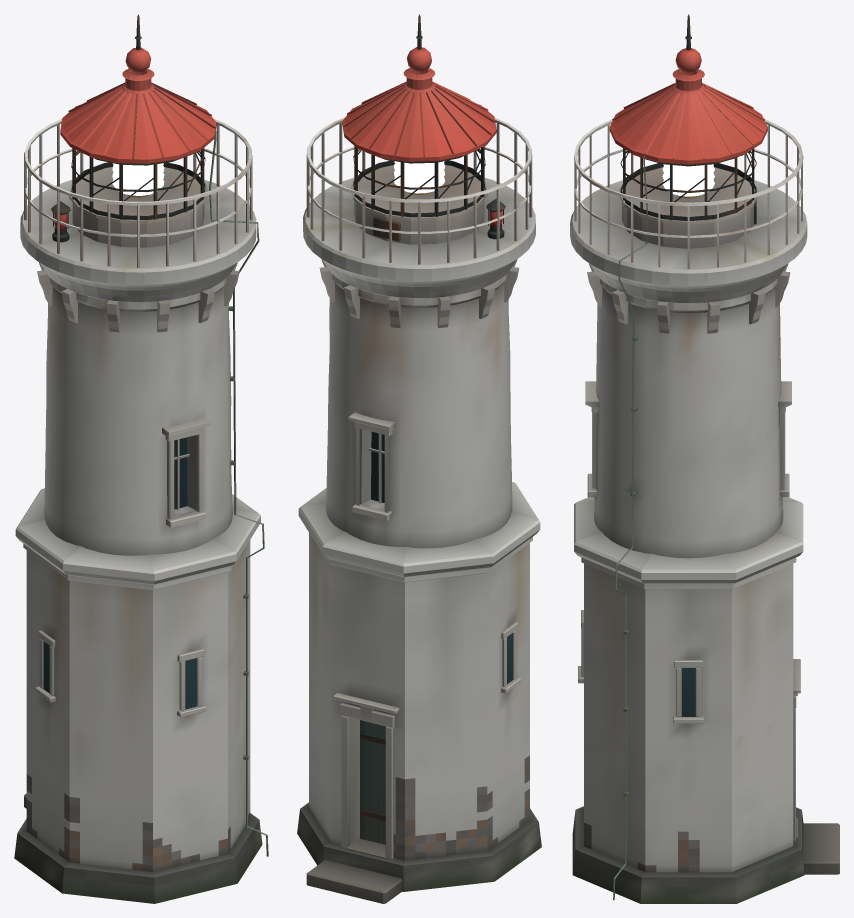
Rendered from pav_lighthouse.glb.
The picture shows the model from 3 angles, left to right: view 1: azimuth 30°, elevation 25°; view 2: azimuth 150°, elevation 25°; view 3: azimuth 270°, elevation 25°; orthographic projection.
Parts seen in each view (by area): view 1: static_lighthouse, live_lamp; view 2: static_lighthouse, live_lamp; view 3: static_lighthouse, live_lamp.
Boxes of the visible parts, <box> form: static_lighthouse: <box>14,14,268,903</box>; live_lamp: <box>112,163,164,195</box>; static_lighthouse: <box>297,14,541,903</box>; live_lamp: <box>394,161,444,193</box>; static_lighthouse: <box>570,14,839,903</box>; live_lamp: <box>662,164,714,196</box>.
Size of the model in its own units: 3.06 by 11.96 by 3.48.
